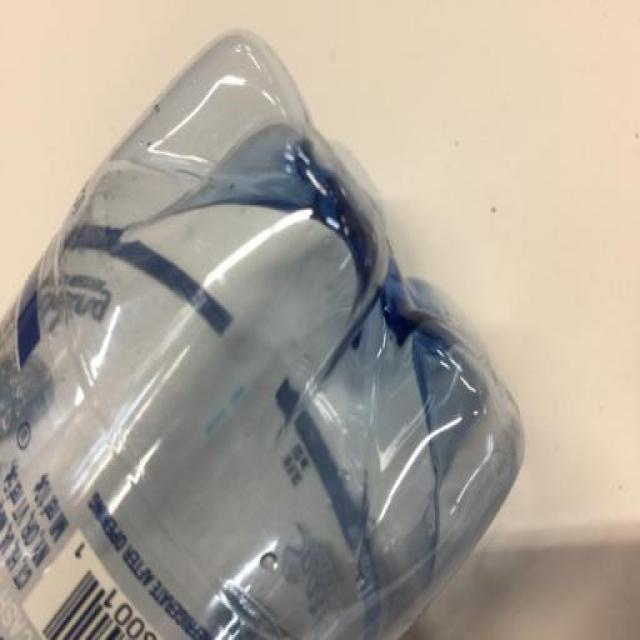plastic_bottle: (17, 54, 549, 640)
